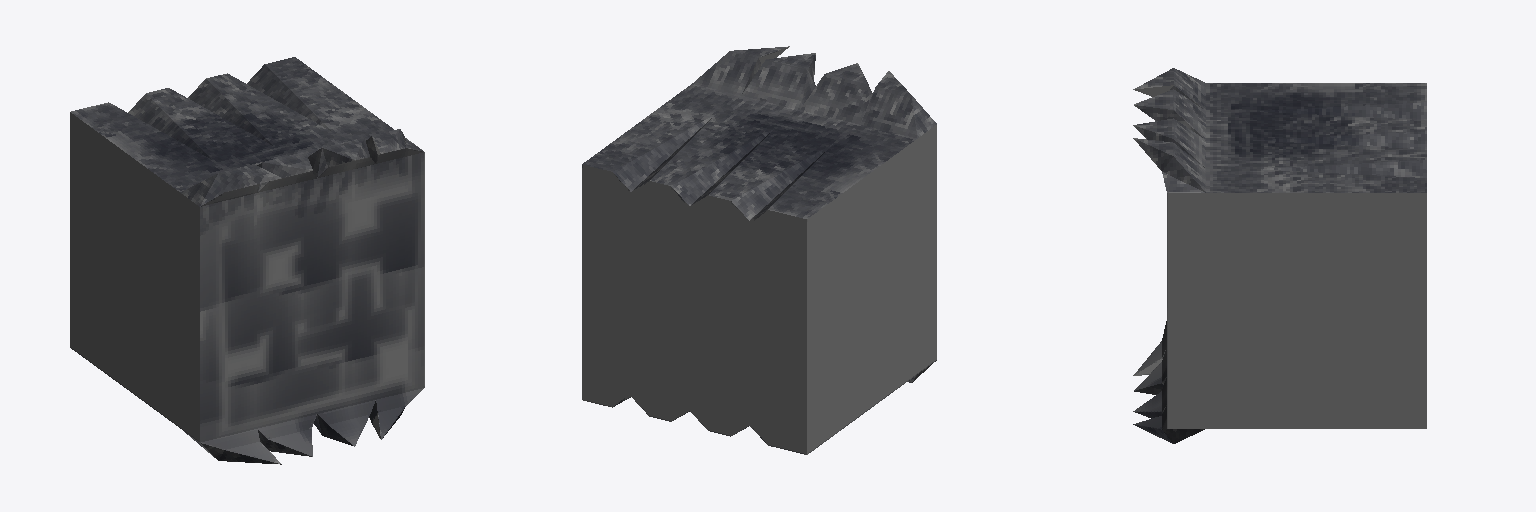
The picture shows the model from 3 angles: view 1: azimuth 30°, elevation 25°; view 2: azimuth 150°, elevation 25°; view 3: azimuth 270°, elevation 25°; orthographic projection.
Parts seen in each view (by area): view 1: Box001; view 2: Box001; view 3: Box001.
Boxes of the visible parts, x1=… form: Box001: x1=70, y1=57, x2=424, y2=464; Box001: x1=582, y1=46, x2=936, y2=454; Box001: x1=1133, y1=68, x2=1426, y2=443.
Bounding box in the file's own units: 40 × 48.87 × 45.23.
Materials: 1 (1 with a texture image).